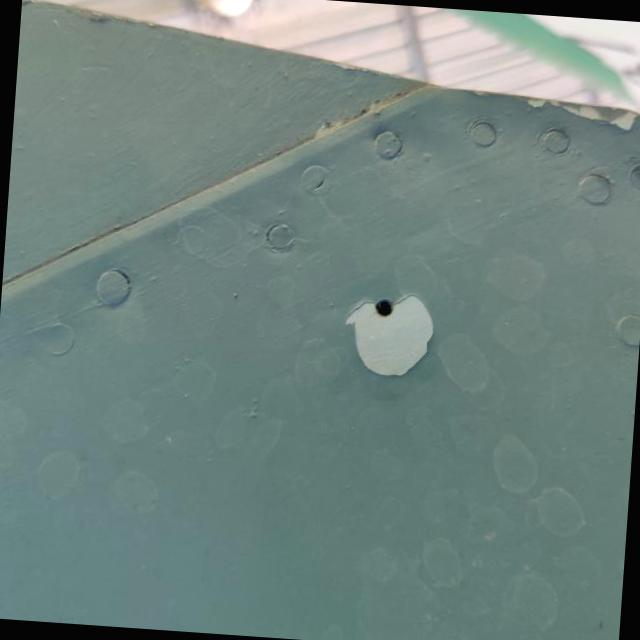Missing Fastener: (364, 298, 410, 325)
